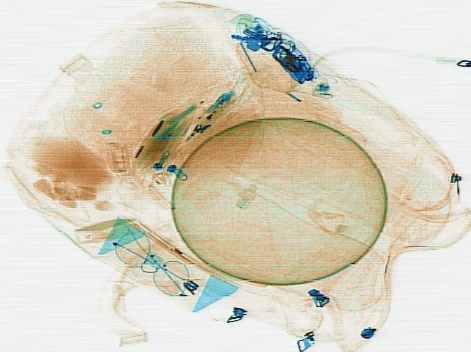lighter: (194, 91, 230, 130)
